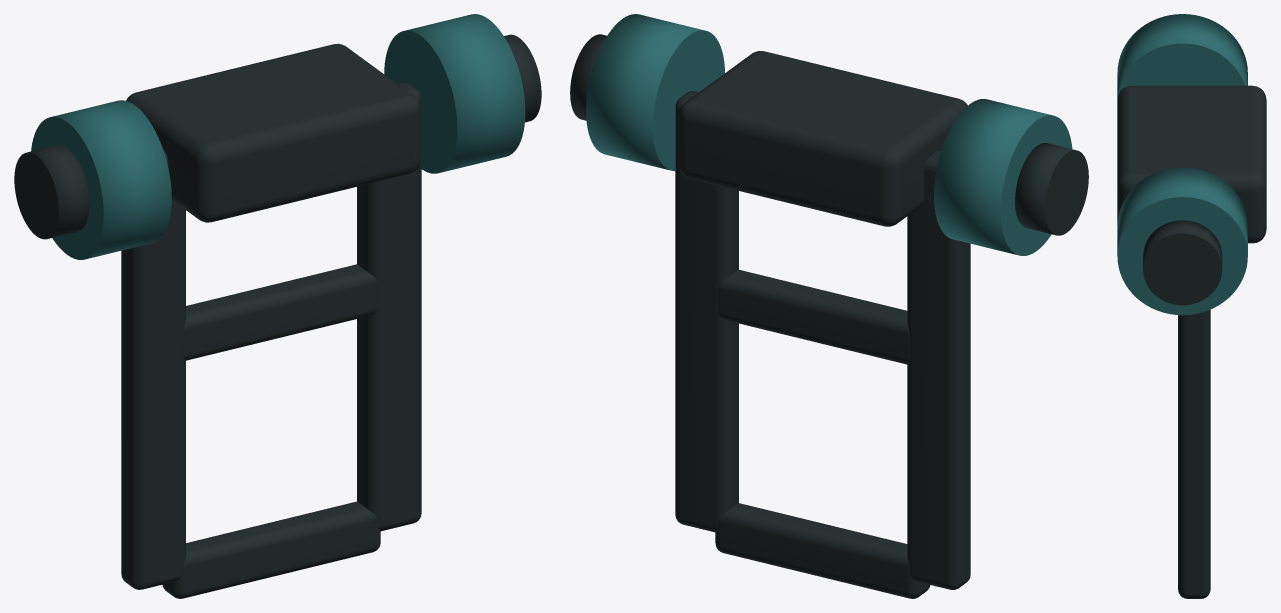
The model's file is focus_carriage.glb.
The picture shows the model from 3 angles, left to right: view 1: azimuth 30°, elevation 25°; view 2: azimuth 150°, elevation 25°; view 3: azimuth 270°, elevation 25°; orthographic projection. The views are drawn at different scales.
Parts seen in each view (by area): view 1: carriage, stage_support_side, stage_support_side.001, coarse_focus_dial, coarse_focus_dial.001, stage_support_end, stage_support_end.001, fine_focus_dial, fine_focus_dial.001; view 2: carriage, stage_support_side, stage_support_side.001, coarse_focus_dial, coarse_focus_dial.001, stage_support_end, stage_support_end.001, fine_focus_dial, fine_focus_dial.001; view 3: carriage, coarse_focus_dial, stage_support_side.001, coarse_focus_dial.001, fine_focus_dial.001.
Part boxes in pixels (x1,y1,x2,y2): carriage: [126, 43, 420, 222]; stage_support_side: [121, 150, 185, 589]; stage_support_side.001: [357, 82, 421, 531]; coarse_focus_dial: [384, 14, 525, 173]; coarse_focus_dial.001: [31, 100, 171, 259]; stage_support_end: [162, 501, 380, 598]; stage_support_end.001: [183, 264, 377, 360]; fine_focus_dial: [14, 145, 89, 239]; fine_focus_dial.001: [504, 34, 541, 122]; carriage: [678, 51, 967, 226]; stage_support_side: [907, 150, 970, 589]; stage_support_side.001: [675, 91, 738, 532]; coarse_focus_dial: [586, 14, 724, 171]; coarse_focus_dial.001: [934, 99, 1072, 255]; stage_support_end: [715, 503, 930, 598]; stage_support_end.001: [718, 270, 910, 364]; fine_focus_dial: [1015, 143, 1088, 235]; fine_focus_dial.001: [570, 34, 606, 120]; carriage: [1117, 85, 1266, 243]; coarse_focus_dial: [1117, 167, 1247, 315]; stage_support_side.001: [1178, 309, 1210, 598]; coarse_focus_dial.001: [1117, 14, 1247, 99]; fine_focus_dial.001: [1143, 220, 1222, 305].
Bounding box in the file's own units: 0.213 × 0.2135 × 0.064.
